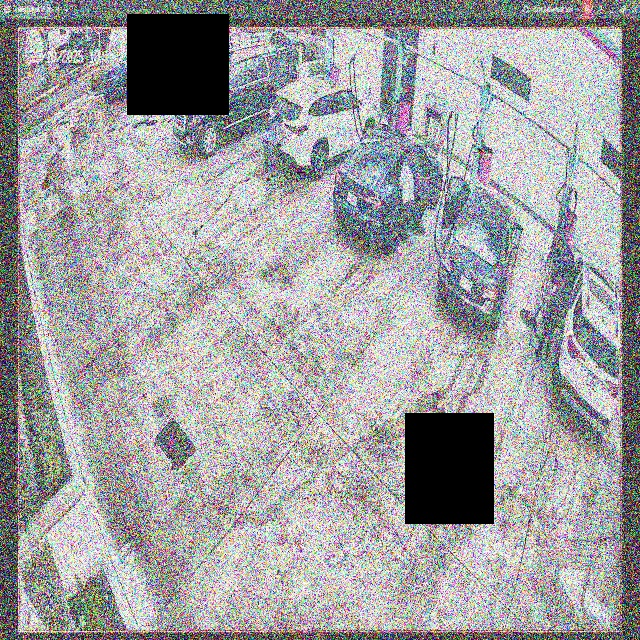Car: (334, 119, 444, 248), (438, 180, 522, 328), (269, 75, 379, 174)
